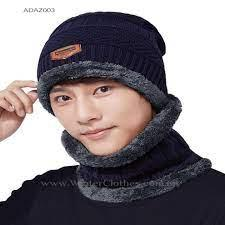cap: (28, 2, 172, 101)
scarf-kerchief: (60, 95, 213, 208)
